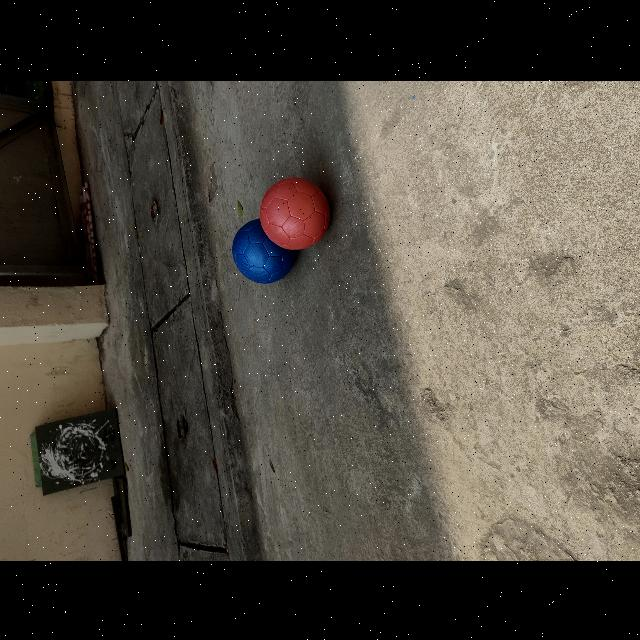B: (232, 219, 296, 283)
R: (261, 177, 330, 249)
